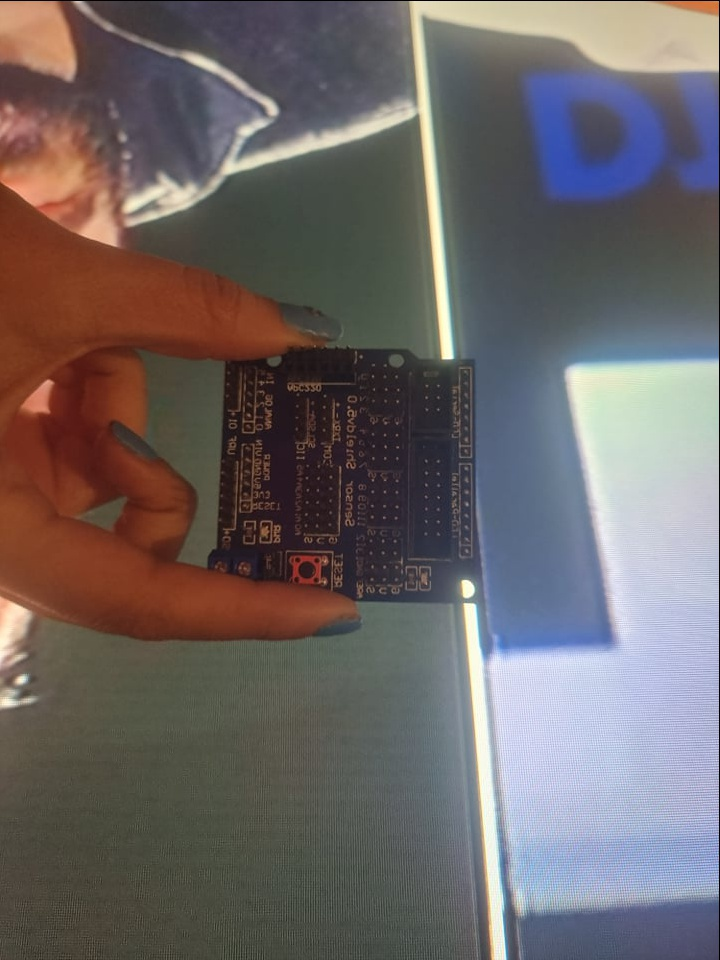5V EXPANSION: (196, 343, 482, 610)
